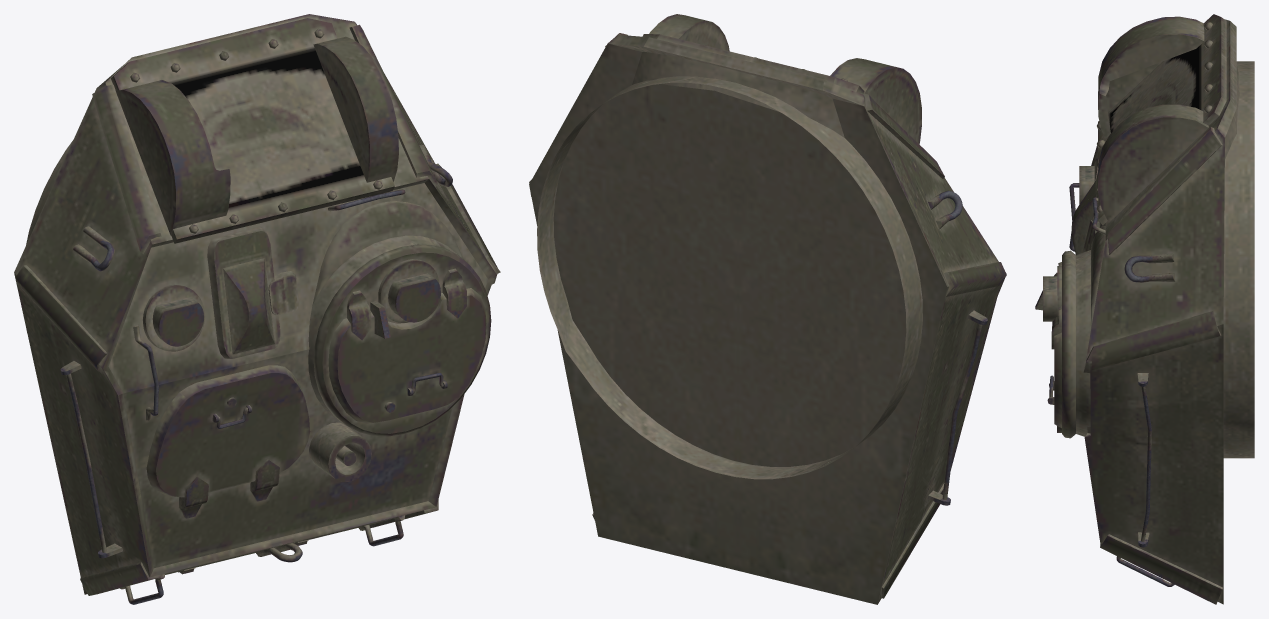
The model's file is Turret_01.glb.
3 views of the same model, side by side, from view 1: azimuth 30°, elevation 25°; view 2: azimuth 150°, elevation 25°; view 3: azimuth 270°, elevation 25° (orthographic). The views are drawn at different scales.
Visible parts, largest first — view 1: set_0_group_0; view 2: set_0_group_0; view 3: set_0_group_0.
Part boxes in pixels (x1,y1,x2,y2): set_0_group_0: (14, 14, 500, 604); set_0_group_0: (529, 14, 1006, 604); set_0_group_0: (1035, 14, 1254, 604).
Size of the model in its own units: 1.61 by 1.87 by 0.7727.
1 material, 1 textured.
